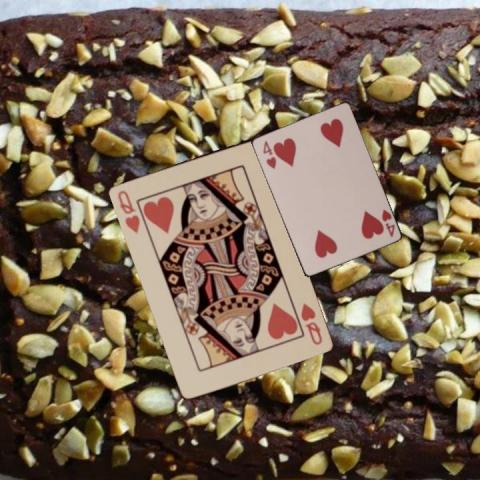4h: (259, 137, 277, 170), (379, 206, 396, 239)
Qh: (114, 187, 141, 235), (298, 299, 324, 347)
